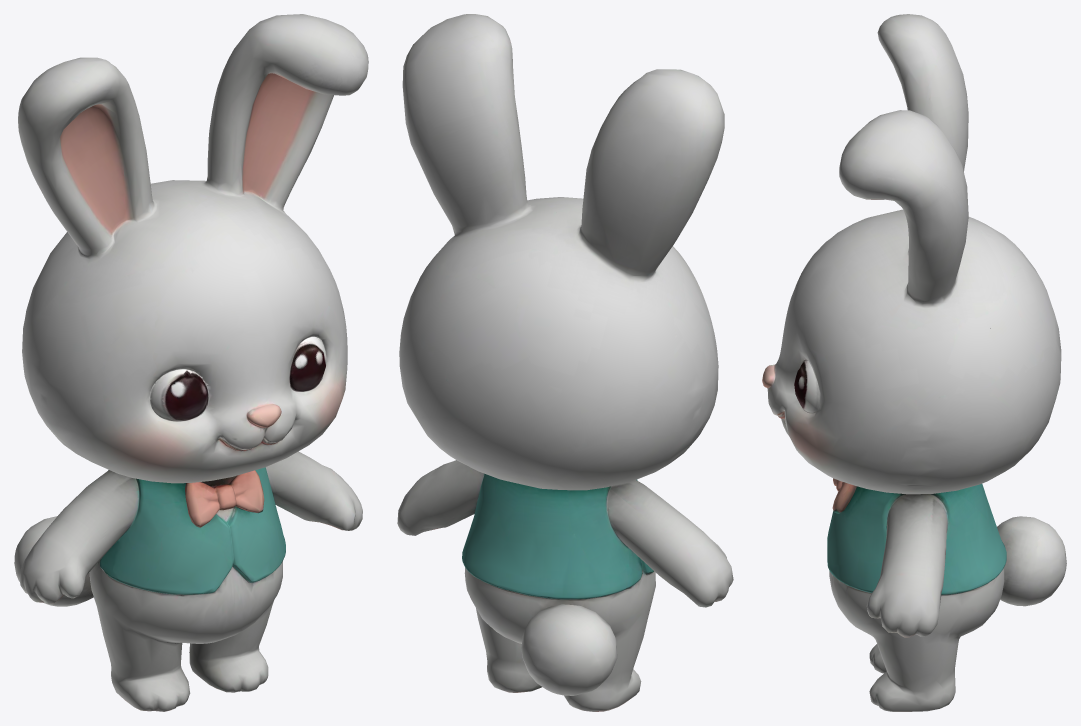
Rendered from npc_rabbit.glb.
The picture shows the model from 3 angles, left to right: view 1: azimuth 30°, elevation 25°; view 2: azimuth 150°, elevation 25°; view 3: azimuth 270°, elevation 25°; orthographic projection. The views are drawn at different scales.
Parts seen in each view (by area): view 1: node_0; view 2: node_0; view 3: node_0.
Boxes of the visible parts, box(x1,y1,x2,y2) form: node_0: box(14, 14, 368, 711); node_0: box(397, 14, 733, 711); node_0: box(762, 14, 1066, 711).
Bounding box in the file's own units: 0.5898 × 1.12 × 0.5034.
1 material, 1 textured.
